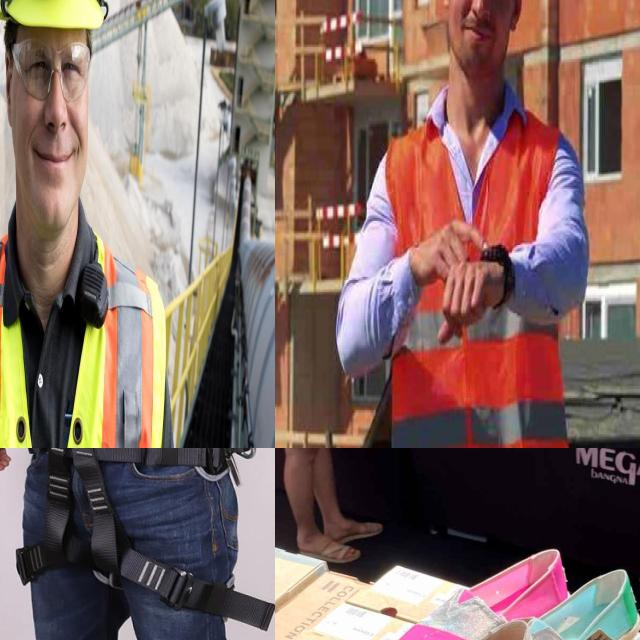Harness: (25, 448, 156, 576)
No_Glasses: (455, 0, 513, 15)
face_nomask: (7, 23, 102, 222), (446, 0, 519, 80)
glasses: (8, 28, 95, 105)
hand_noglove: (437, 251, 506, 336), (422, 212, 490, 277)
head_helmet: (0, 0, 118, 50)
person: (358, 0, 600, 448), (0, 0, 193, 448)
vest: (395, 106, 577, 448), (0, 224, 162, 448)
